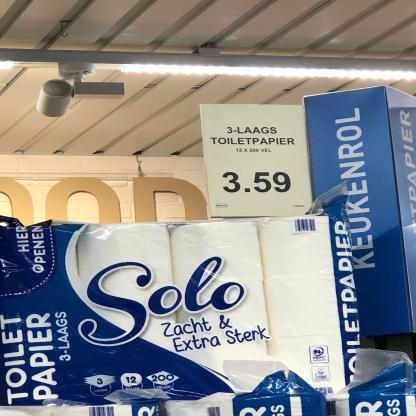prtg: (200, 106, 313, 219)
